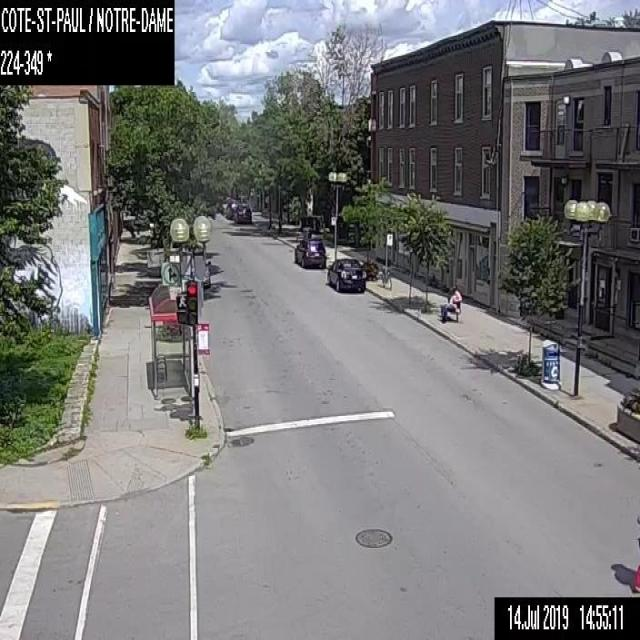pedestrian: (439, 284, 461, 322), (631, 508, 639, 593)
vehicle: (326, 256, 366, 290), (293, 239, 326, 266), (231, 204, 251, 222), (200, 259, 210, 286)
